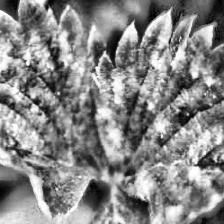Powdery Mildew Leaf: (88, 7, 224, 224), (0, 0, 110, 222)
